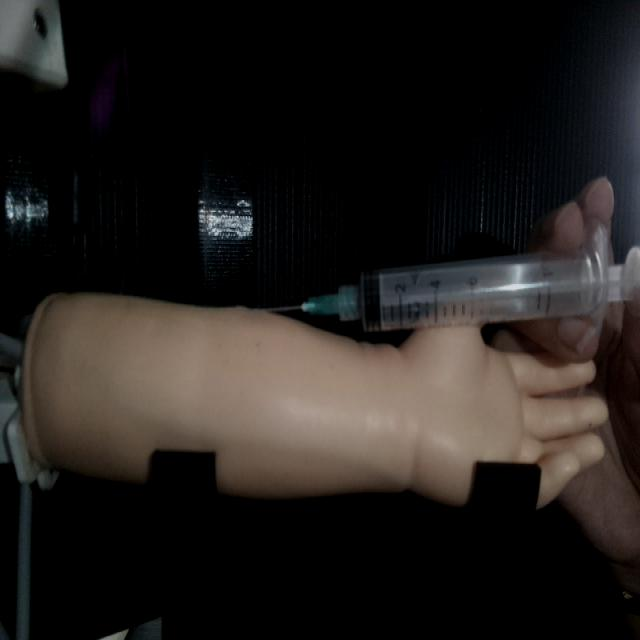Below 15 degrees: (258, 228, 638, 335)
